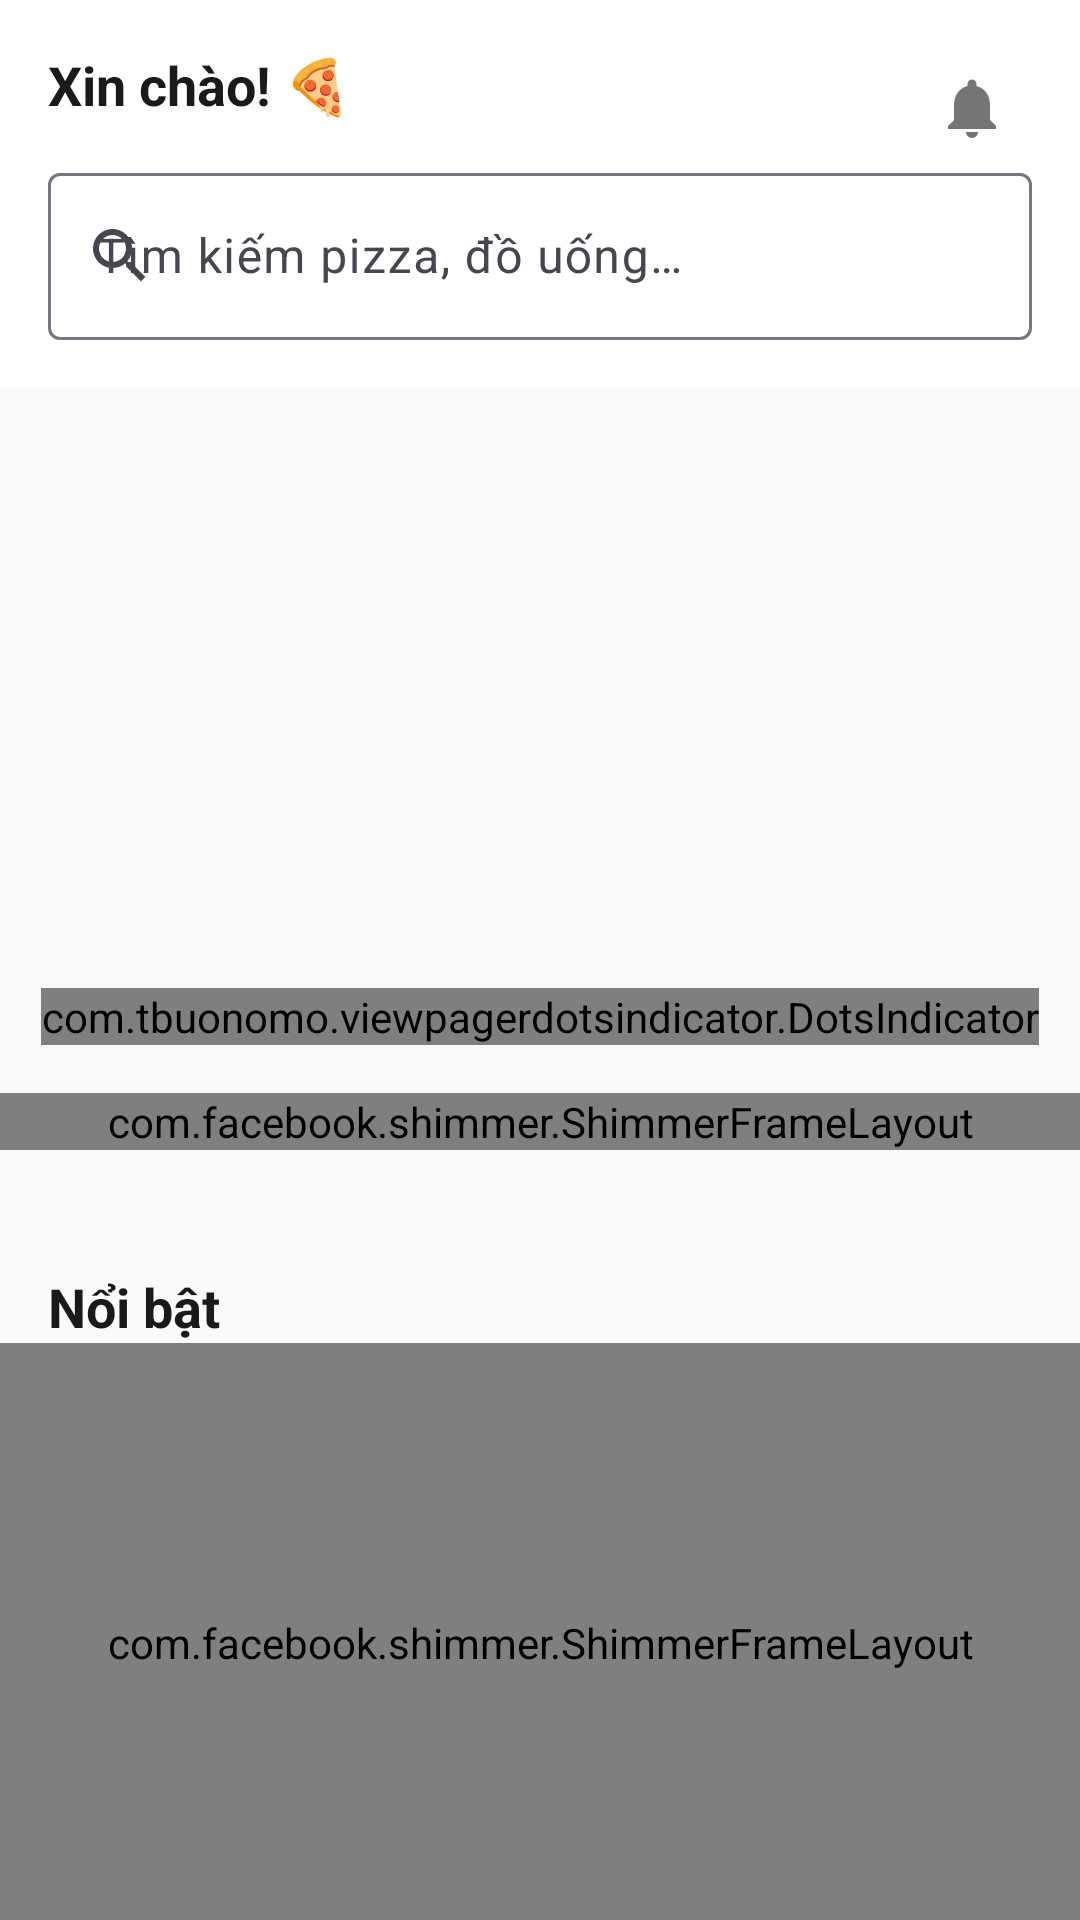

Icons on this 1080×1920 Android screen, each with the point to tap as (x=x, y=y):
Thông báo: (x=972, y=108)
